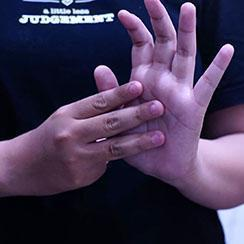M: (51, 0, 239, 239)
